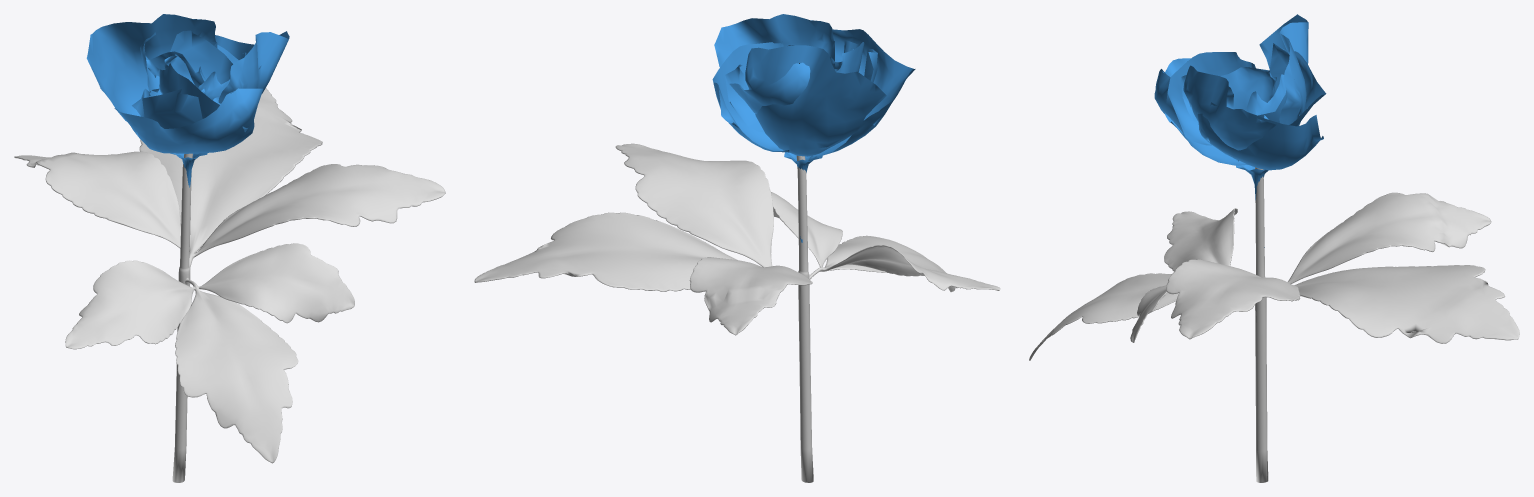
File: peonybluecp.glb
The picture shows the model from 3 angles, left to right: view 1: azimuth 30°, elevation 25°; view 2: azimuth 150°, elevation 25°; view 3: azimuth 270°, elevation 25°; orthographic projection. The views are drawn at different scales.
Visible parts, largest first — view 1: maki.001; view 2: maki.001; view 3: maki.001.
Part boxes in pixels (left/top/right/bottom): maki.001: left=14, top=14, right=445, bottom=482; maki.001: left=474, top=14, right=1000, bottom=482; maki.001: left=1029, top=14, right=1519, bottom=482.
Size of the model in its own units: 2.99 by 3.4 by 3.42.
